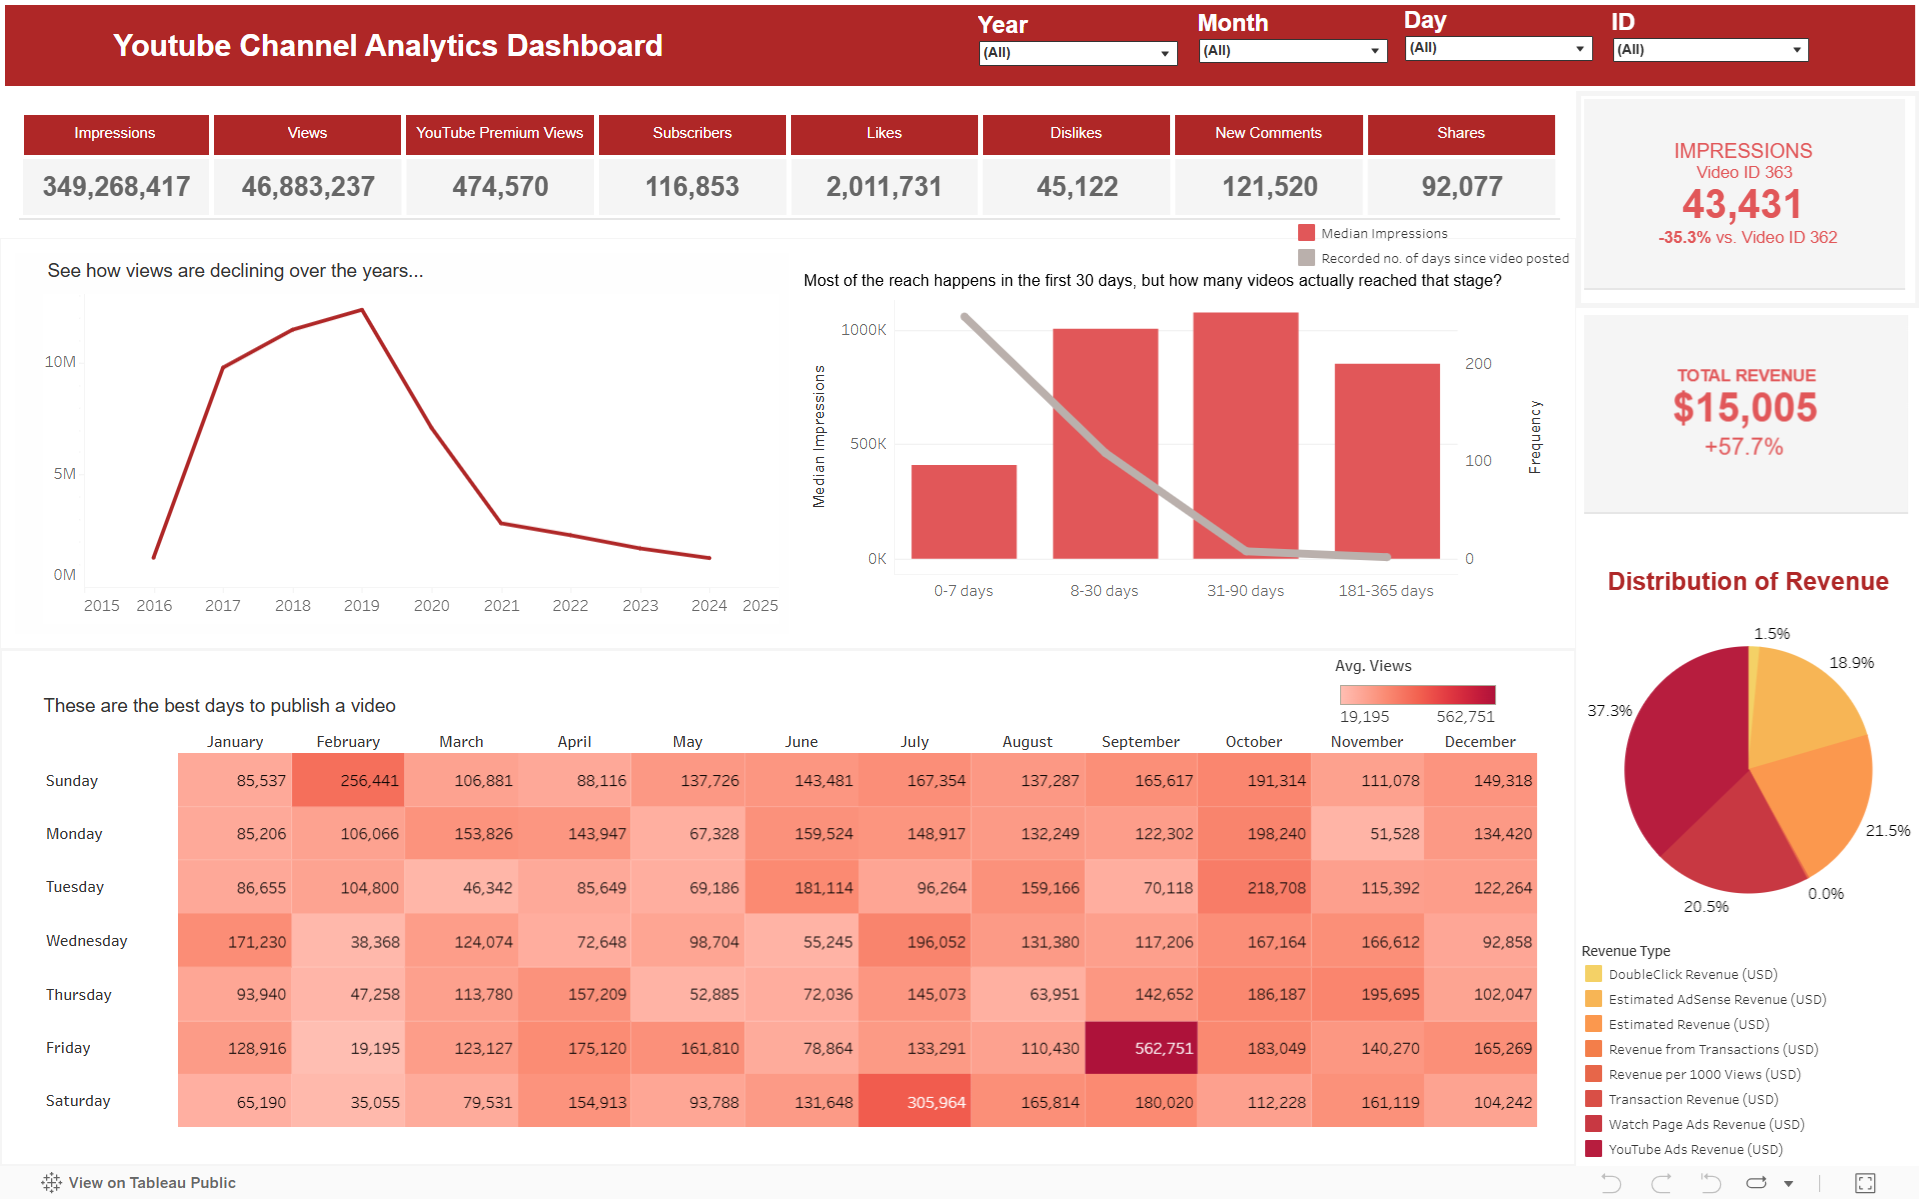

What the dashboard file says about the page in this screenshot:
{"tool":"tableau","page":{"name":"Dashboard 1","canvas":[1000,1000],"units":"permille","ordinal":0},"visuals":[{"type":"title","box":[0,0,1000,79.3]},{"type":"filter","title":"Sheet 1","param":"[federated.19b5s7u0d679hf19lkhj31iteafh].[none:Day:ok]","box":[731.4,5.4,98.7,63]},{"type":"filter","title":"Sheet 1","param":"[federated.19b5s7u0d679hf19lkhj31iteafh].[none:ID:ok]","box":[839.5,6.5,103.4,61.9]},{"type":"filter","title":"Sheet 1","param":"[federated.19b5s7u0d679hf19lkhj31iteafh].[none:Month (Text):nk]","box":[623.9,7.6,99.4,63]},{"type":"filter","title":"Sheet 1","param":"[federated.19b5s7u0d679hf19lkhj31iteafh].[none:Year:ok]","box":[509.4,9.8,104.5,59.7]},{"type":"worksheet","title":"Sheet 1","mark":"Automatic","box":[0,79.3,821.5,126]},{"type":"worksheet","title":"Sheet 1 (2)","mark":"Automatic","box":[821.5,79.3,178.5,187.8]},{"type":"legend","title":"Sheet 8","param":"[federated.19b5s7u0d679hf19lkhj31iteafh].[:Measure Names]","box":[709.9,153.1,188.8,69.5]},{"type":"worksheet","title":"Sheet 5","mark":"Line","rows":["Views"],"cols":["Year"],"box":[7.8,218.1,457.5,325.6]},{"type":"worksheet","title":"Sheet 8","mark":"Automatic","rows":["Impressions","Calculation_4416060955087519744"],"cols":["Calculation_4416060955087519744"],"box":[465.3,218.1,348.4,325.6]},{"type":"worksheet","title":"Sheet 1 (3)","mark":"Automatic","box":[821.5,267.1,178.5,183.5]},{"type":"worksheet","title":"Sheet 3","mark":"Pie","box":[821.5,450.6,178.5,346.4]},{"type":"legend","title":"Sheet 6","param":"[federated.19b5s7u0d679hf19lkhj31iteafh].[avg:Views:qk]","box":[748.2,549.4,86.3,95.5]},{"type":"worksheet","title":"Sheet 6","mark":"Square","rows":["Day of Week"],"cols":["Month (Text)"],"box":[0,556.8,821.5,443.2]},{"type":"legend","title":"Sheet 3","param":"[federated.04d7quz0hmx46g1a7x6v814fnx3p].[none:Pivot Field Names:nk]","box":[821.5,797,178.5,203]}]}

Visuals, with their boxes on the dashboard's canvas, which has no fixed pixel size, in thousandths of its width and height (x1, y1, x2, y2). These are canvas units, not pixel positions in the 1919x1199 screenshot, which may show the page scaled, cropped or inside an application window:
title: 0, 0, 1000, 79
"Sheet 1" filter: 731, 5, 830, 68
"Sheet 1" filter: 840, 6, 943, 68
"Sheet 1" filter: 624, 8, 723, 71
"Sheet 1" filter: 509, 10, 614, 70
"Sheet 1" worksheet: 0, 79, 822, 205
"Sheet 1 (2)" worksheet: 822, 79, 1000, 267
"Sheet 8" legend: 710, 153, 899, 223
"Sheet 5" worksheet (Line marks): 8, 218, 465, 544
"Sheet 8" worksheet: 465, 218, 814, 544
"Sheet 1 (3)" worksheet: 822, 267, 1000, 451
"Sheet 3" worksheet (Pie marks): 822, 451, 1000, 797
"Sheet 6" legend: 748, 549, 834, 645
"Sheet 6" worksheet (Square marks): 0, 557, 822, 1000
"Sheet 3" legend: 822, 797, 1000, 1000
